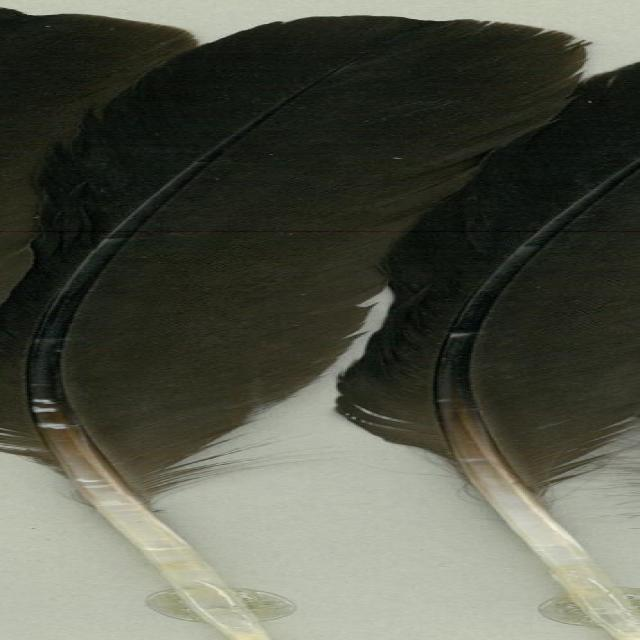feather: (0, 15, 593, 640), (341, 57, 640, 640)
